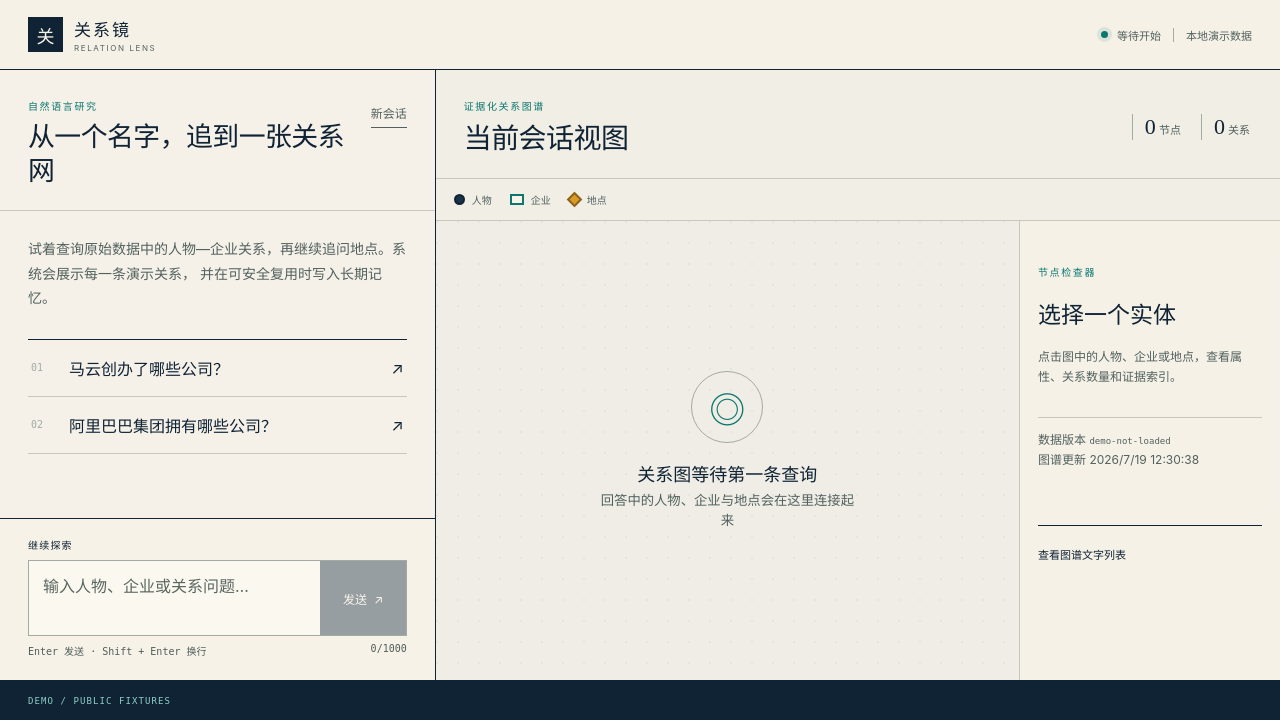
Scenario: App › does not submit Enter while an IME is composing
In the text box labelled "继续探索": (174, 598) [29,561,320,635], type "马云创办了哪些公司？"
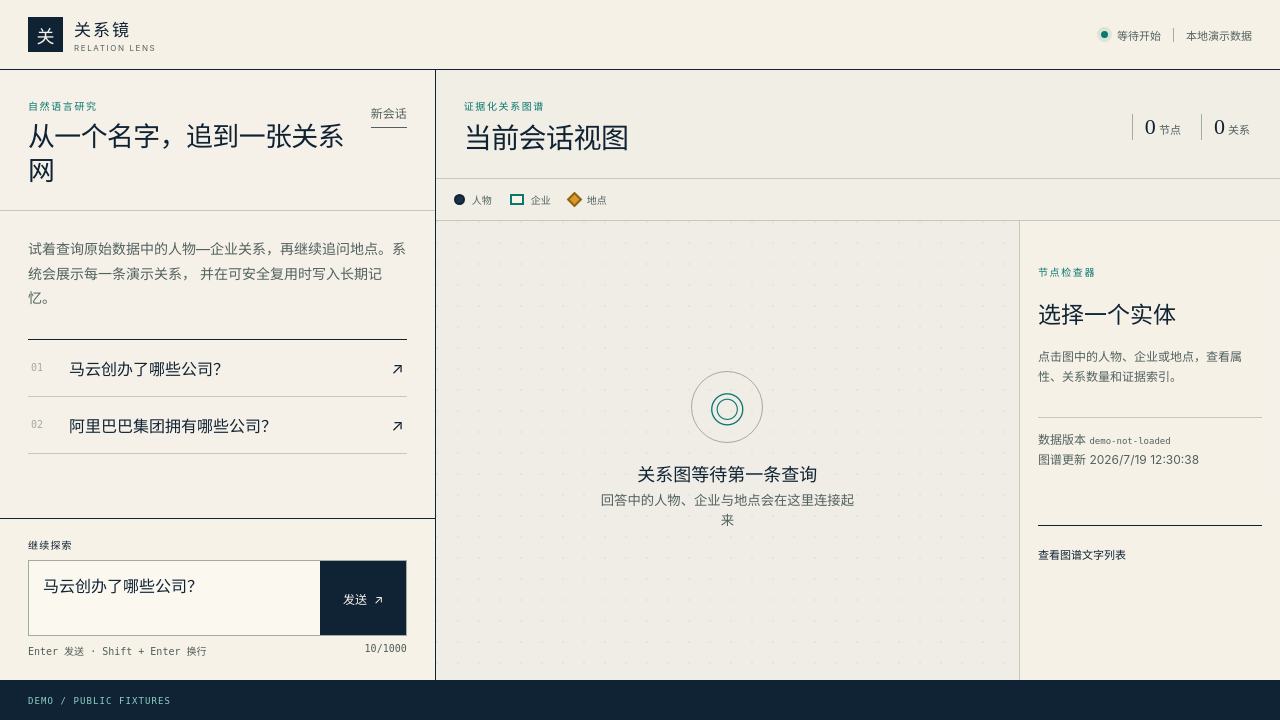
Press Enter in the text box labelled "继续探索", box [29,561,320,635]
Press Enter in the text box labelled "继续探索", box [29,561,320,635]
Press Enter in the text box labelled "继续探索", box [29,561,320,635]
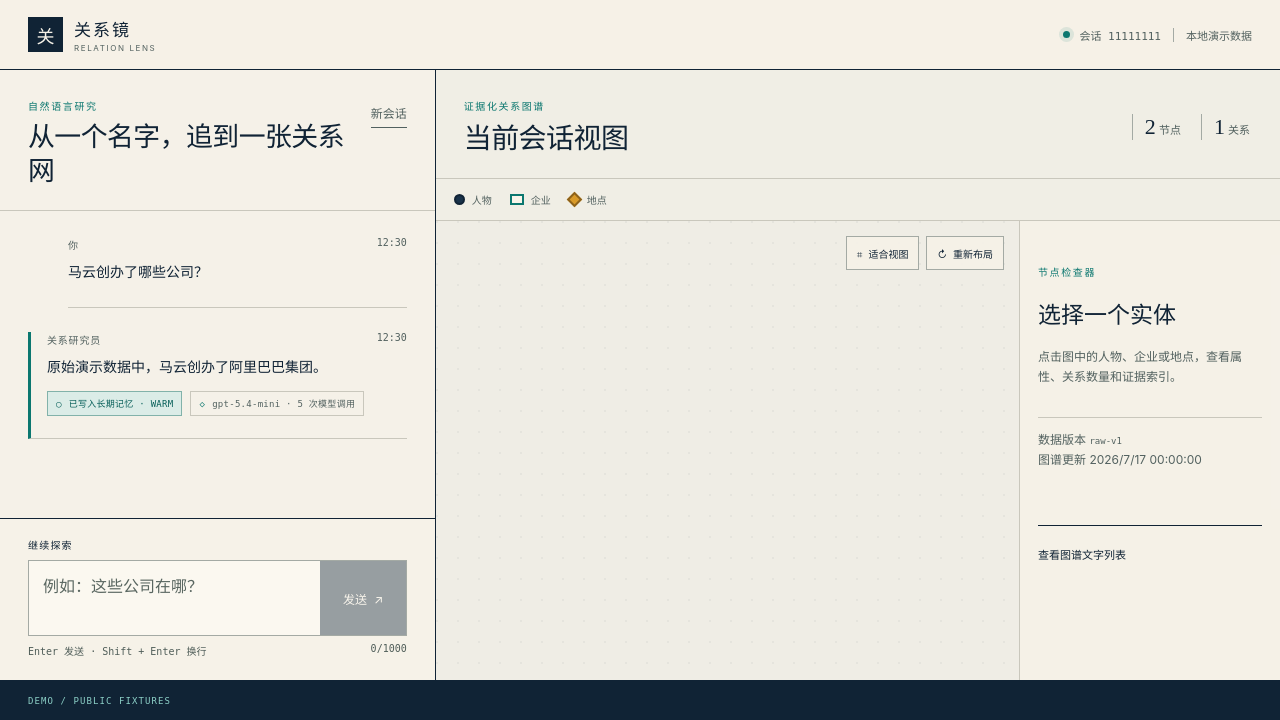
Result: the text "原始演示数据中，马云创办了阿里巴巴集团。" is shown at [47,358,327,375]
